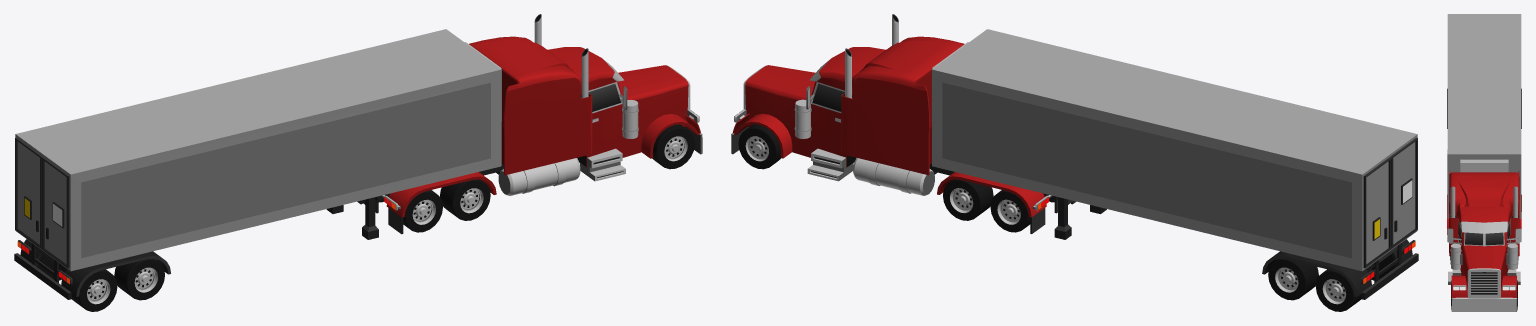
Rendered from Truck_006.glb.
The picture shows the model from 3 angles, left to right: view 1: azimuth 30°, elevation 25°; view 2: azimuth 150°, elevation 25°; view 3: azimuth 270°, elevation 25°; orthographic projection. The views are drawn at different scales.
Visible parts, largest first — view 1: Truck_006, wheel_3_Truck_006_Wheel_2R, wheel_7_Truck_006_Wheel_4R, wheel_1_Truck_006_Wheel_1R, wheel_9_Truck_006_Wheel_5R, wheel_5_Truck_006_Wheel_3R; view 2: Truck_006, wheel_6_Truck_006_Wheel_4L, wheel_2_Truck_006_Wheel_2L, wheel_0_Truck_006_Wheel_1L, wheel_8_Truck_006_Wheel_5L, wheel_4_Truck_006_Wheel_3L; view 3: Truck_006.
Part boxes in pixels (box(x1,y1,x2,y2)): Truck_006: box(14, 14, 702, 299); wheel_3_Truck_006_Wheel_2R: box(440, 179, 490, 220); wheel_7_Truck_006_Wheel_4R: box(114, 258, 164, 300); wheel_1_Truck_006_Wheel_1R: box(652, 124, 694, 169); wheel_9_Truck_006_Wheel_5R: box(71, 269, 117, 311); wheel_5_Truck_006_Wheel_3R: box(403, 190, 442, 232); Truck_006: box(731, 14, 1418, 299); wheel_6_Truck_006_Wheel_4L: box(1268, 258, 1318, 300); wheel_2_Truck_006_Wheel_2L: box(943, 179, 993, 220); wheel_0_Truck_006_Wheel_1L: box(738, 124, 780, 169); wheel_8_Truck_006_Wheel_5L: box(1315, 269, 1361, 311); wheel_4_Truck_006_Wheel_3L: box(990, 190, 1030, 232); Truck_006: box(1447, 14, 1521, 311).
Bounding box in the file's own units: 15.8 × 3.43 × 2.41.
2 materials, 2 textured.
